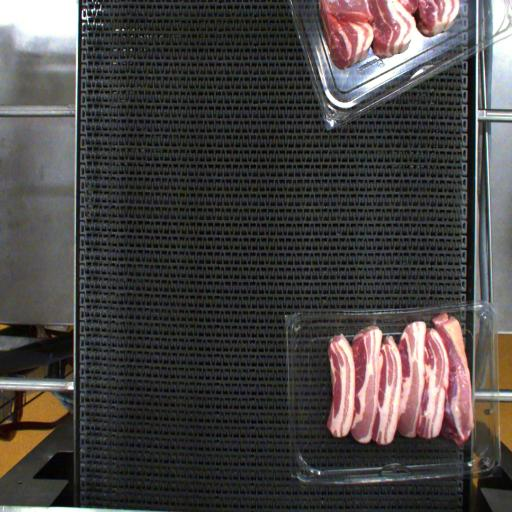packaging-error: (363, 308, 385, 334)
twisted-meat: (442, 318, 471, 454)
